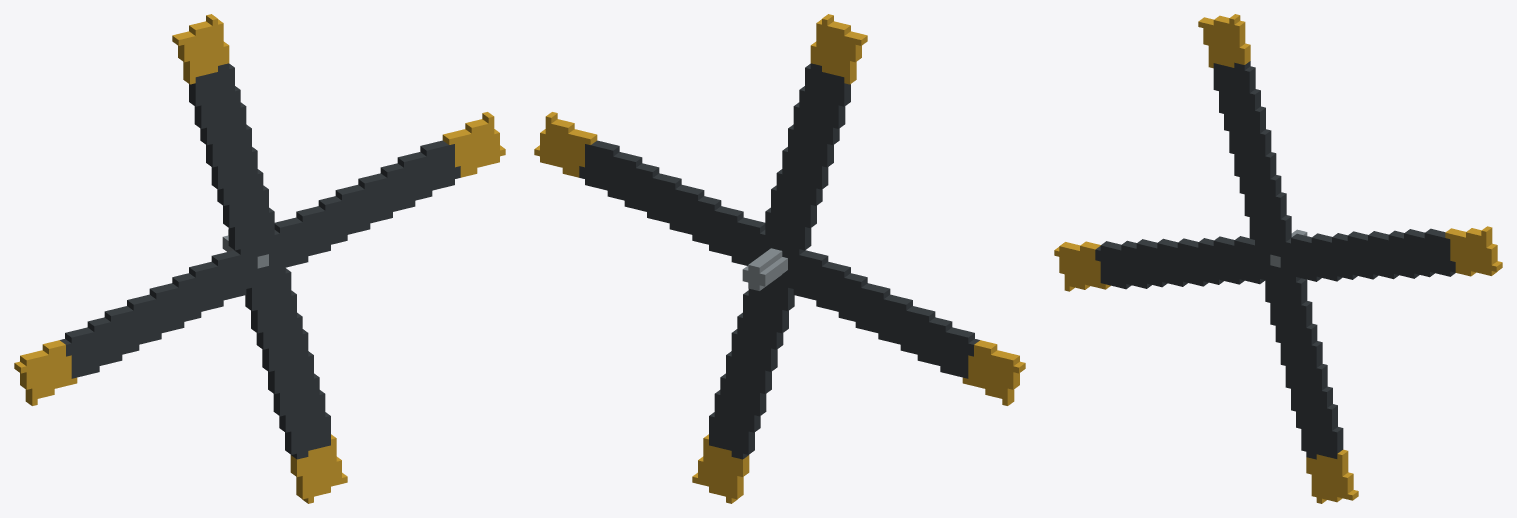
The model's file is military_transport_helicopter_tail_rotor.glb.
3 renders of one model, left to right at view 1: azimuth 30°, elevation 25°; view 2: azimuth 150°, elevation 25°; view 3: azimuth 330°, elevation 25°, orthographic. The views are drawn at different scales.
Parts seen in each view (by area): view 1: body:compound; view 2: body:compound; view 3: body:compound.
Boxes of the visible parts, x1,y1,x2,y2 form: body:compound: [14, 14, 505, 503]; body:compound: [534, 14, 1025, 503]; body:compound: [1054, 14, 1502, 503].
Bounding box in the file's own units: 2.69 × 2.69 × 0.2812.
